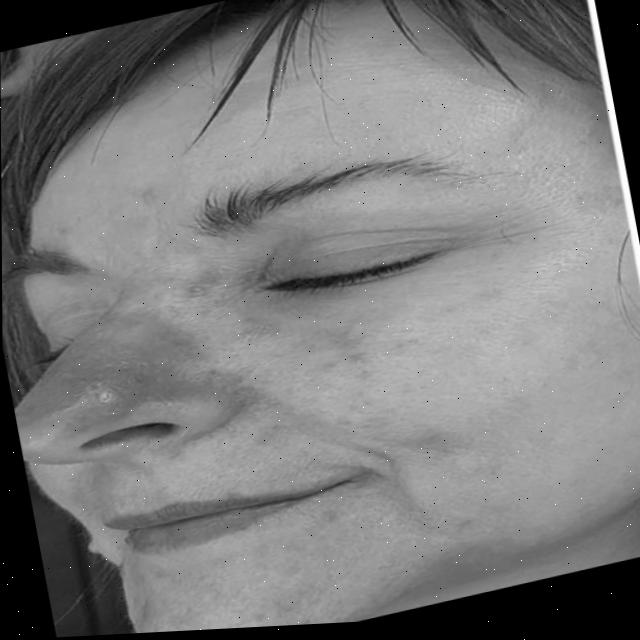Rosacea: (31, 271, 337, 473)
